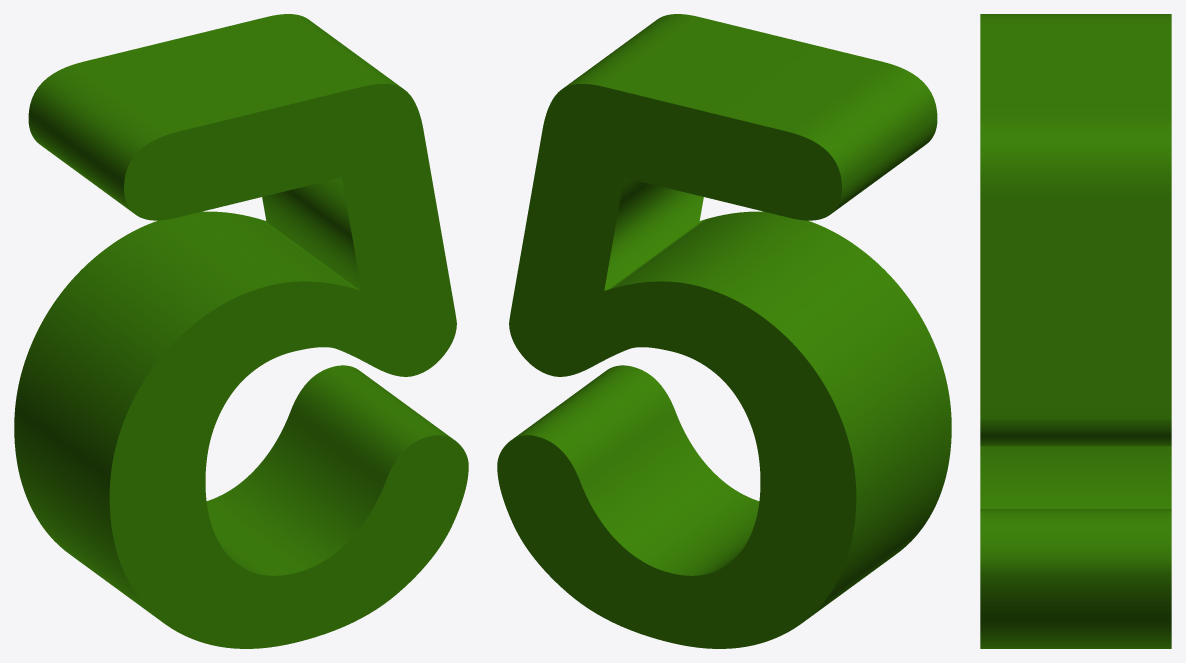
3 views of the same model, side by side, from view 1: azimuth 30°, elevation 25°; view 2: azimuth 150°, elevation 25°; view 3: azimuth 270°, elevation 25° (orthographic).
Visible parts, largest first — view 1: テキスト; view 2: テキスト; view 3: テキスト.
Boxes of the visible parts, bbox=[...] form: テキスト: bbox=[14, 14, 468, 648]; テキスト: bbox=[497, 14, 951, 648]; テキスト: bbox=[980, 14, 1171, 648].
Bounding box in the file's own units: 0.4346 × 0.6241 × 0.2.
